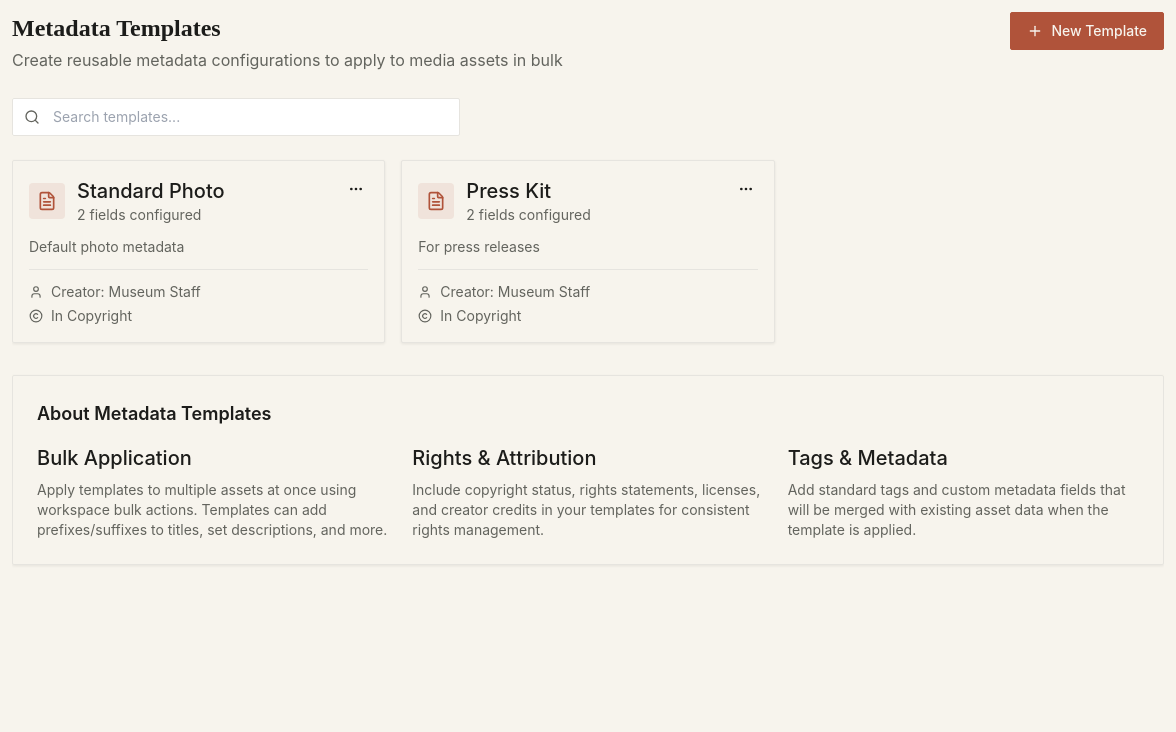
Test: MetadataTemplatesPage › filters templates by search query
Expected: the heading "Standard Photo" is shown, [77,177,225,205]
Type "press" into the field with placeholder "Search templates...".
click(236, 117); type("press")  # box [12,98,460,136]
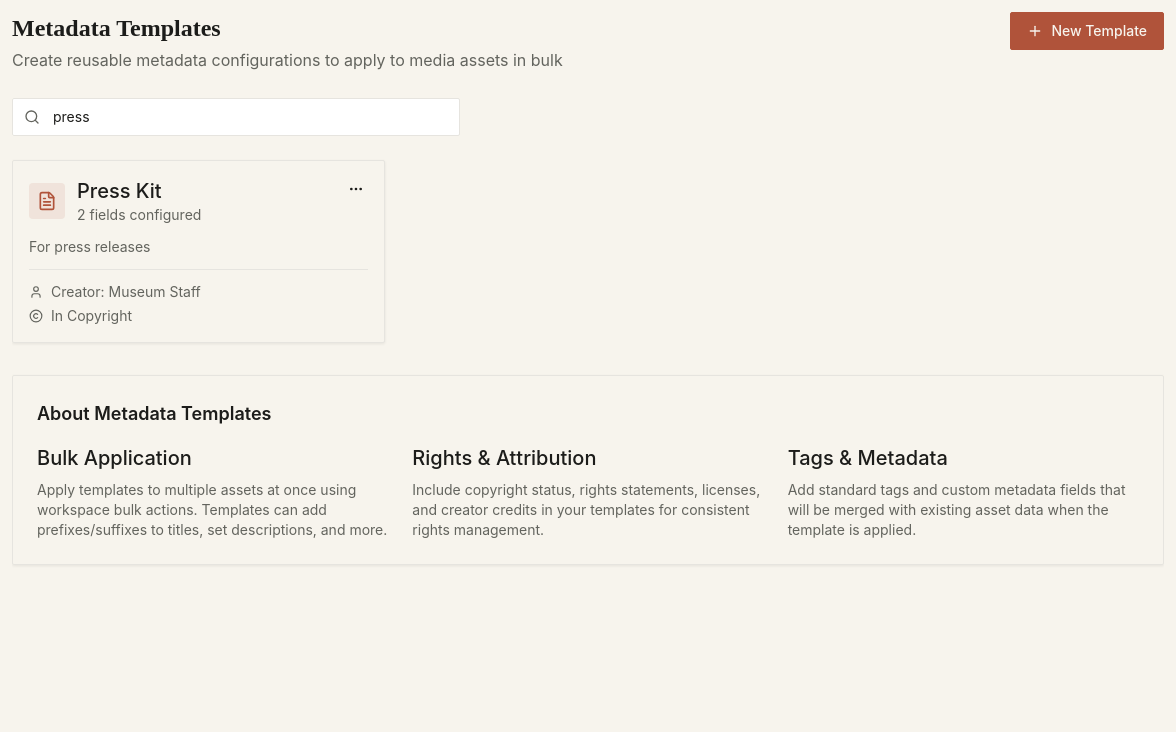
Expected: the heading "Press Kit" is shown, [77,177,162,205]
Result: the heading "Standard Photo" is gone
